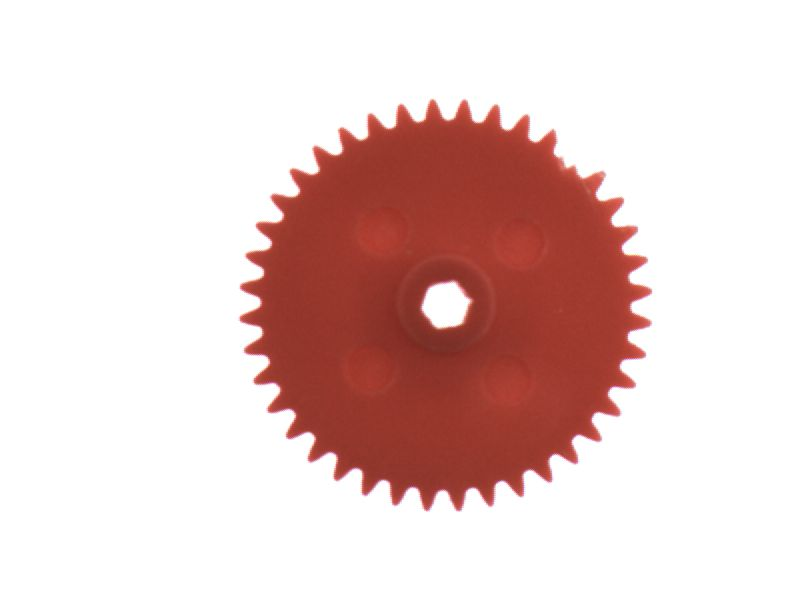defect_lack: (541, 117, 605, 191)
